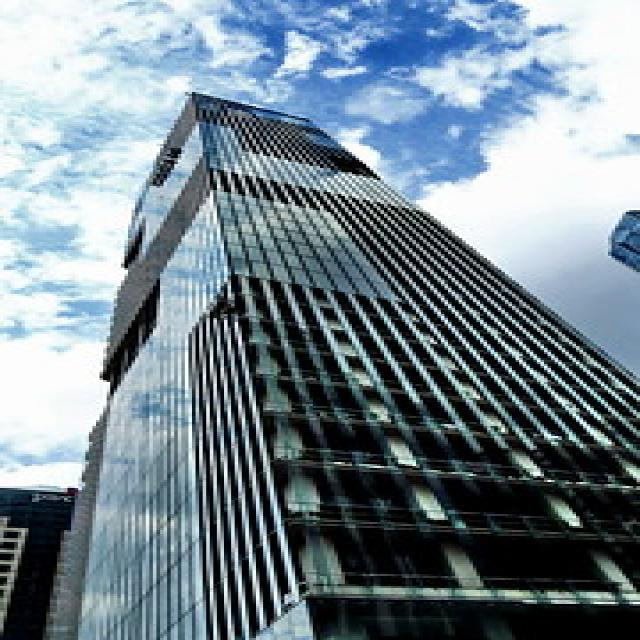Normal_building: (39, 88, 640, 640)
